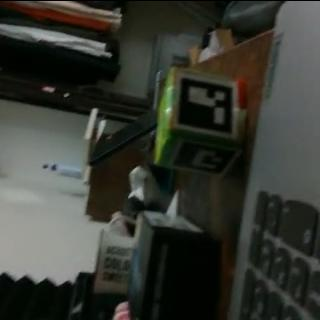armor: (174, 72, 238, 136), (169, 139, 240, 175)
robot: (154, 65, 252, 178)
